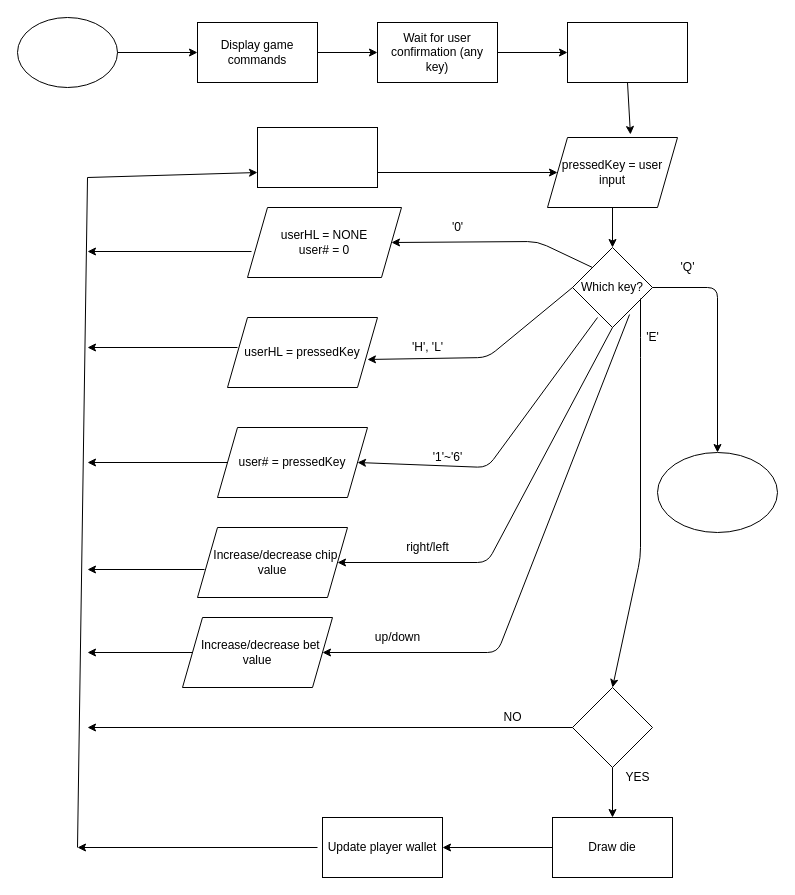
Some shapes in this 795 by 895 pixel diagram are drawn without their labels. Each missing label, with the box of its shape:
End: (656, 452, 778, 532)
setup Loot box game variables and screen: (566, 22, 688, 82)
Start: (16, 16, 118, 88)
Update game screen: (256, 126, 378, 188)
Valid bet?: (572, 686, 652, 768)
